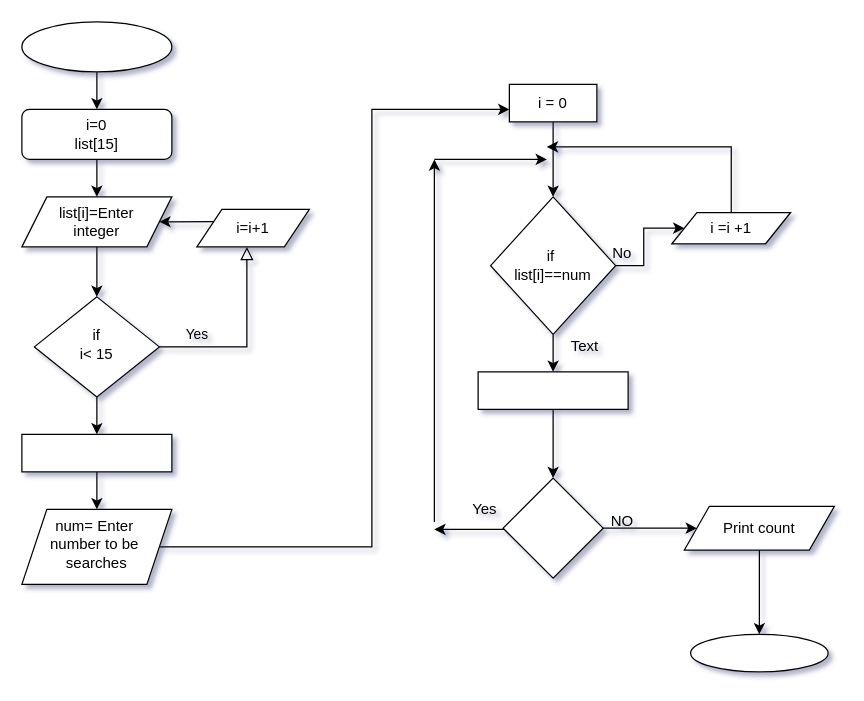
The diagram is 864 pixels wide and 701 high, and some of its shapes have lost their labels. Each missing label, with the box of its shape:
count= count+1: (477, 371, 628, 409)
End: (689, 633, 828, 672)
if i<15: (502, 477, 603, 578)
num count = 0: (21, 433, 172, 472)
Start: (21, 21, 172, 72)
